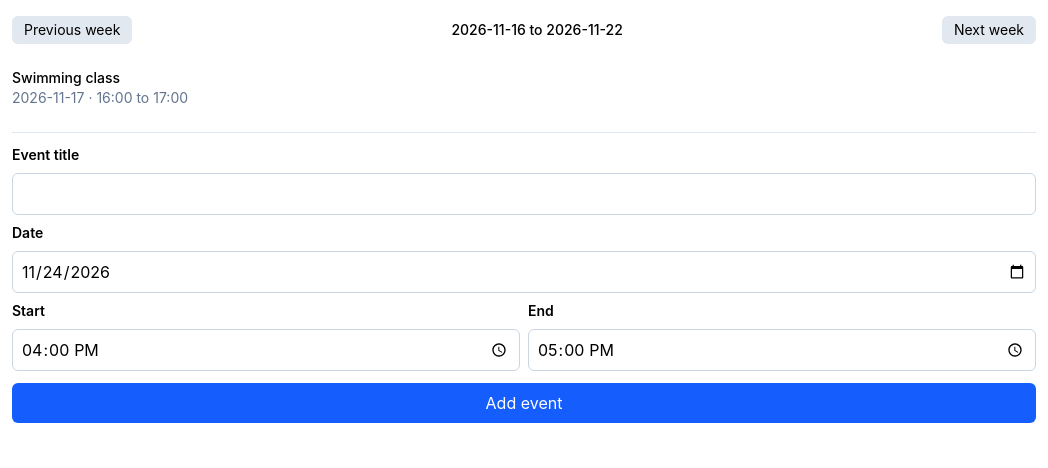
Test: WeeklySchedule › shows the validation message from the API and keeps the form
Expected: the text "Swimming class" is shown, [12,69,120,86]
Type "Reading session" into the field labelled "Event title" at (524, 194), box [12,173,1036,215]
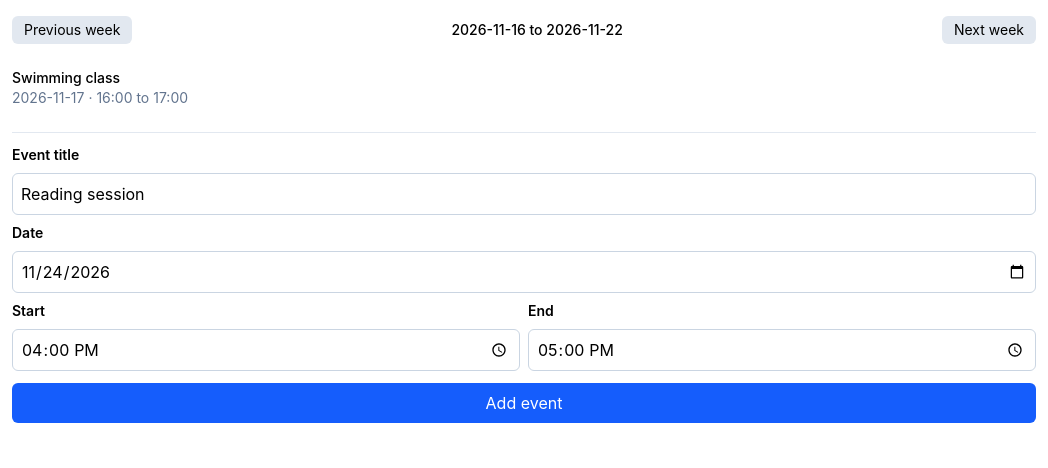
Type "2026-11-25" into the date field labelled "Date" at (524, 272), box [12,251,1036,293]
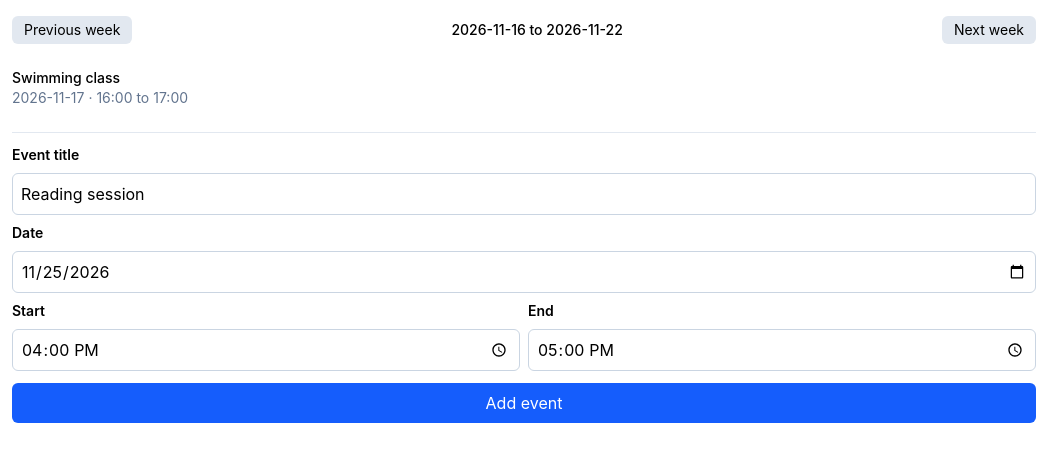
Replace the text in the time field labelled "Start" with "11:00" at (266, 350), box [12,329,520,371]
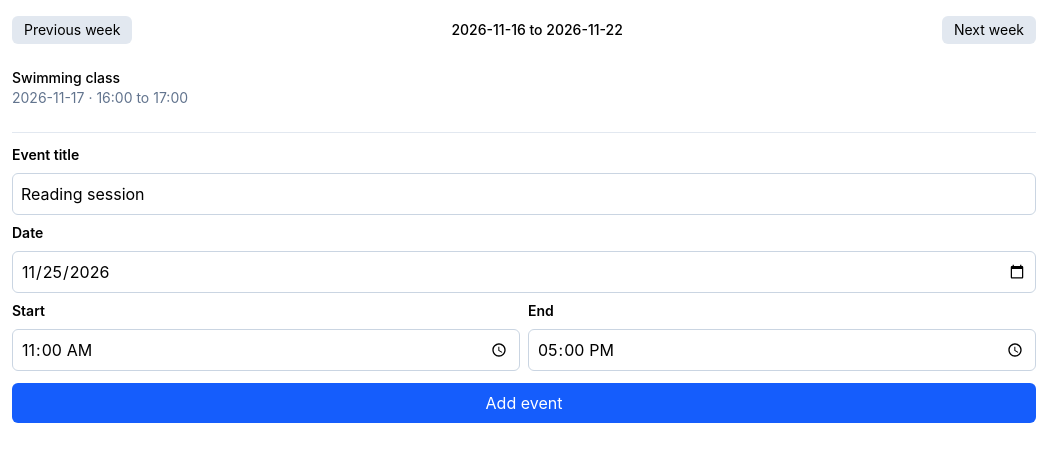
Replace the text in the time field labelled "End" with "10:00" at (782, 350), box [528,329,1036,371]
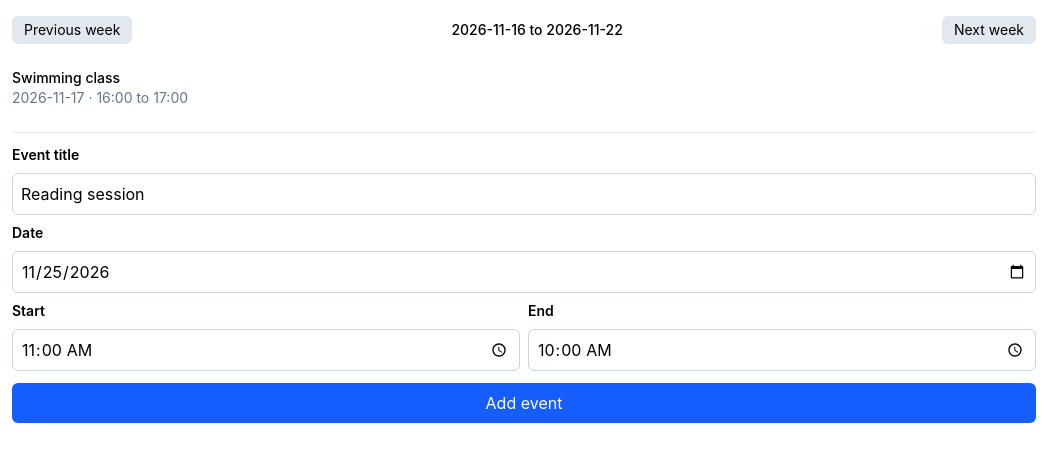
Click the button "Add event" at (524, 403), box [12,383,1036,423]
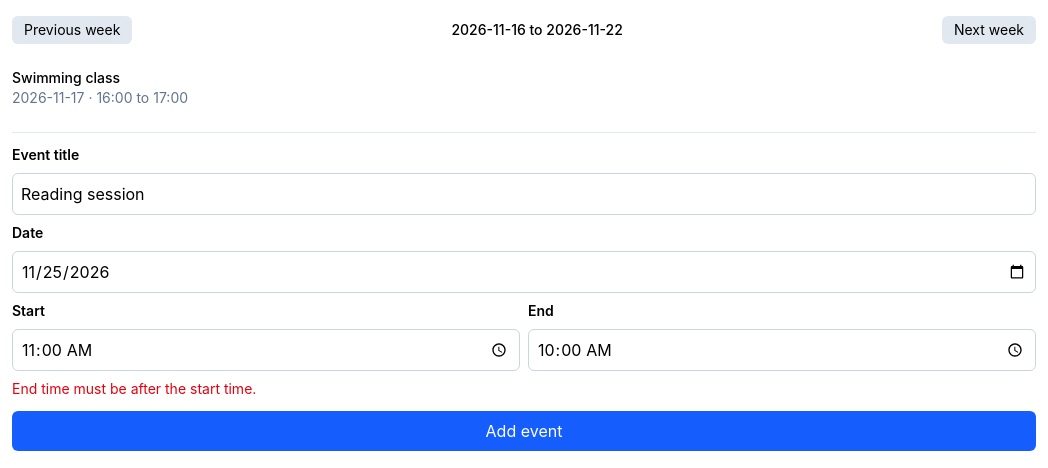
Expected: the message reads "End time must be after the start time.", [12,380,256,397]
